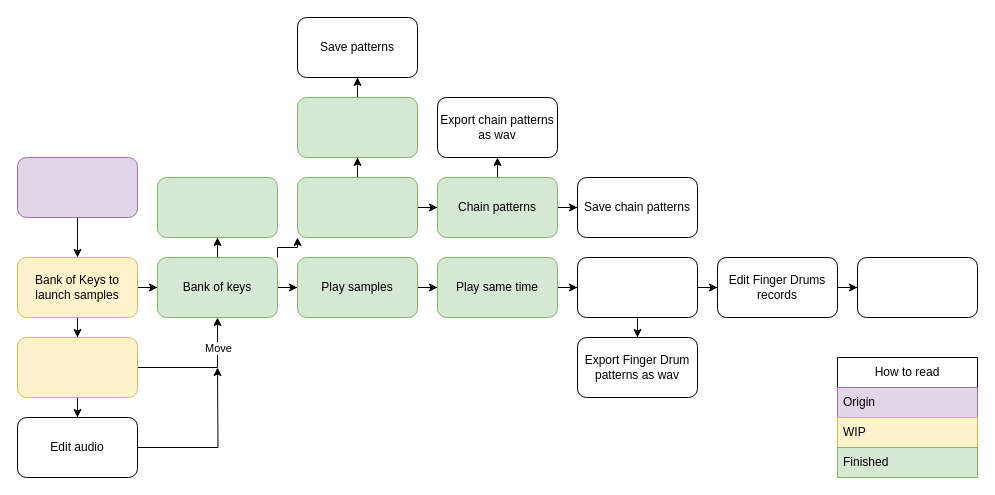
The diagram is 995 pixels wide and 495 high, and some of its shapes have lost their labels. Here are the shapes that lost their labels. From the top down, the centre of each, then its label:
(x=357, y=127): Layers in patterns
(x=77, y=187): Sampling proyect
(x=217, y=207): Load samples
(x=357, y=207): Record patterns
(x=637, y=287): Record Finger Drum
(x=917, y=287): Save Finger Drum patterns
(x=77, y=367): Record Audio
